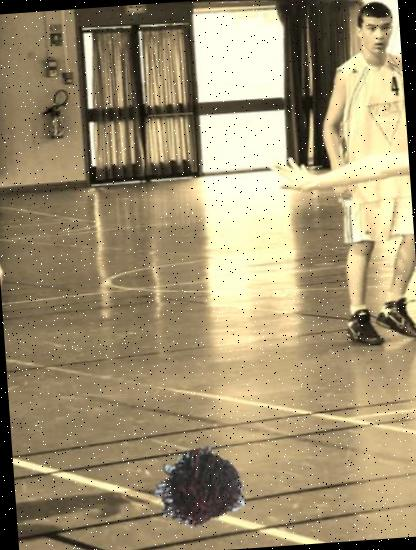Rambutan: (145, 438, 247, 540)
